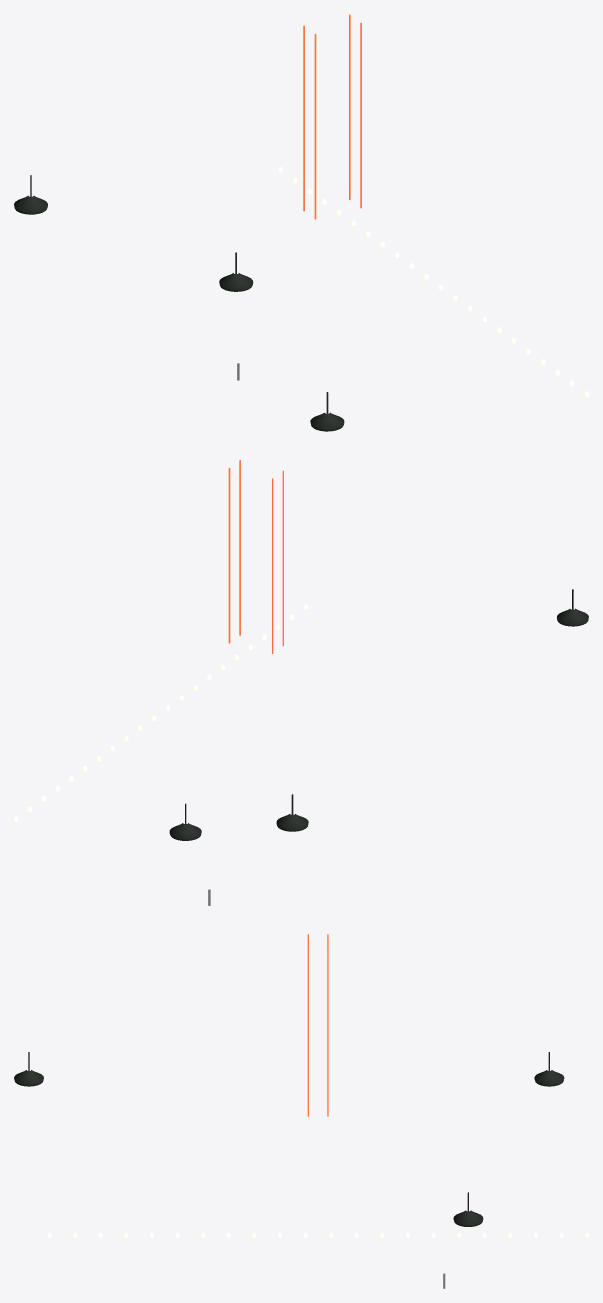
Rendered from SM_Town_Cinema_Fixtures.glb.
3 views of the same model, one above another, from view 1: azimuth 30°, elevation 25°; view 2: azimuth 150°, elevation 25°; view 3: azimuth 270°, elevation 25° (orthographic). The views are drawn at different scales.
Parts seen in each view (by area): view 1: SM_Town_Cinema_Fixtures; view 2: SM_Town_Cinema_Fixtures; view 3: SM_Town_Cinema_Fixtures.
Part boxes in pixels (x1,y1,x2,y2): SM_Town_Cinema_Fixtures: (14, 14, 588, 431); SM_Town_Cinema_Fixtures: (14, 460, 588, 905); SM_Town_Cinema_Fixtures: (14, 934, 588, 1288).
Bounding box in the file's own units: 5.05 × 6.75 × 9.95.
